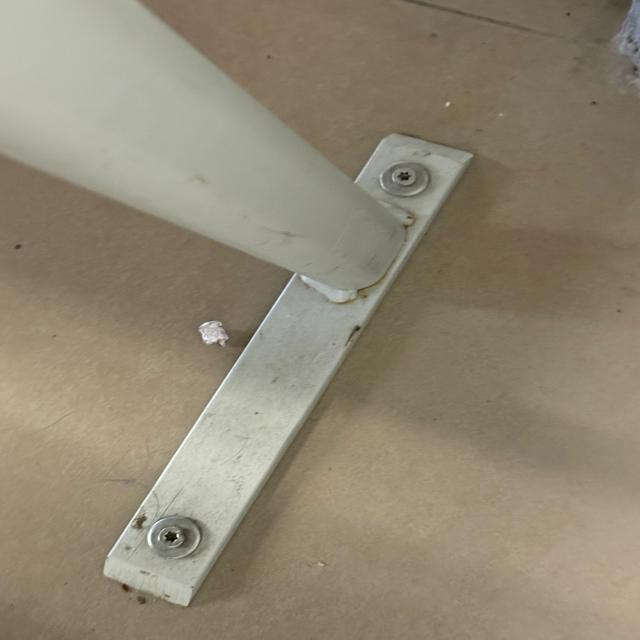Torx: (153, 526, 190, 548), (391, 167, 418, 186)
